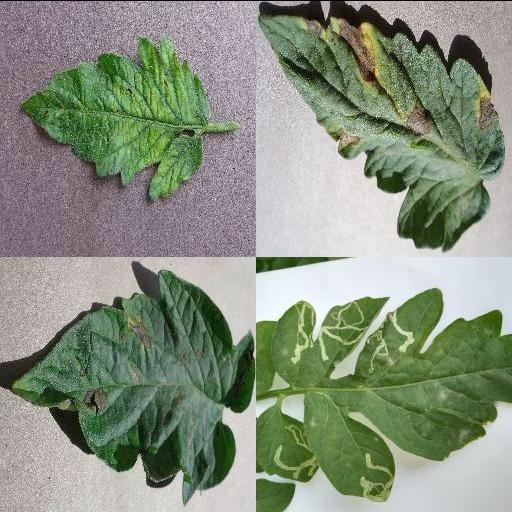Early Blight: (258, 14, 506, 250), (10, 270, 256, 505)
Leaf Miner: (271, 287, 512, 502), (256, 403, 319, 482)
Mosaic Virus: (17, 35, 207, 203)
